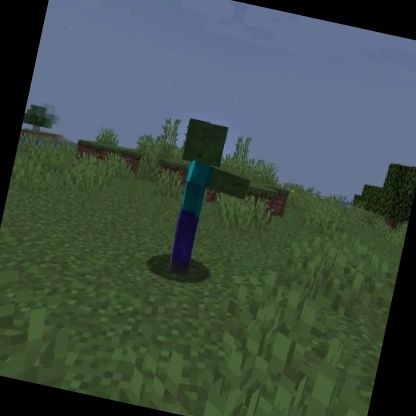zombie: (152, 114, 266, 290)
